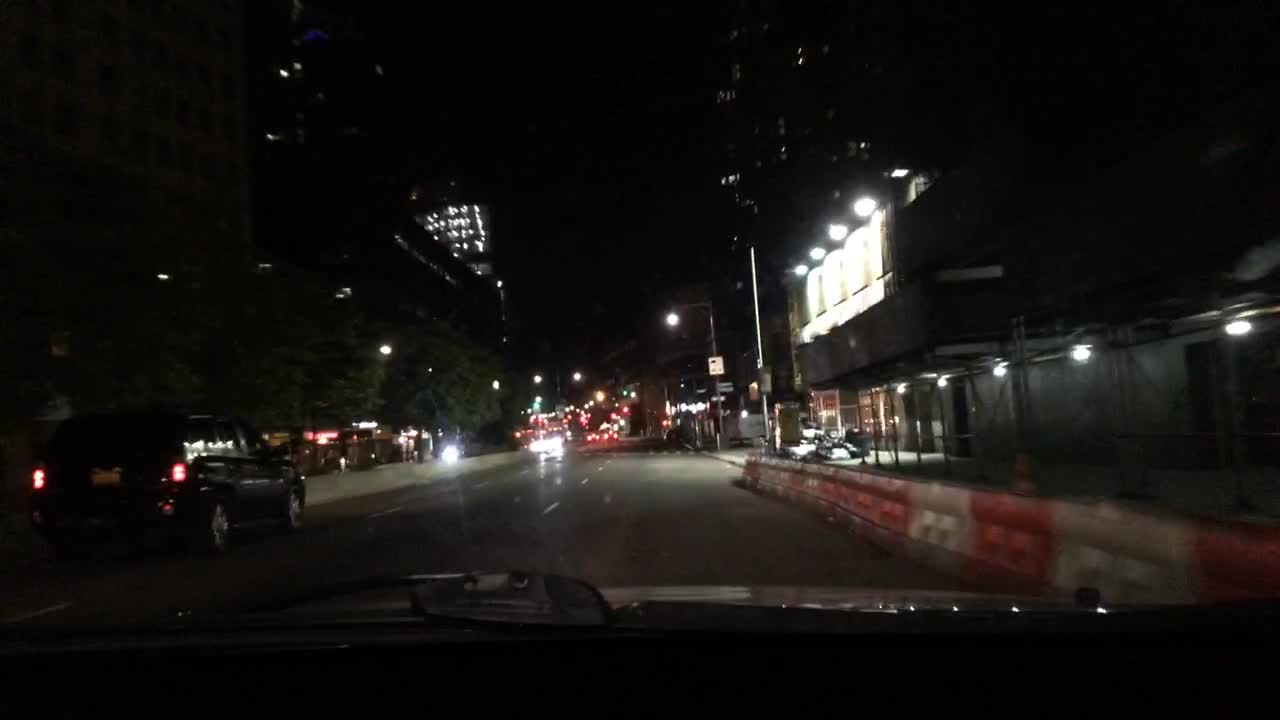car: (21, 400, 308, 554), (526, 433, 553, 455), (439, 442, 464, 462), (601, 426, 621, 442), (550, 432, 566, 449), (584, 428, 601, 442)
traffic light: (619, 403, 632, 416), (530, 400, 543, 411), (607, 408, 616, 422), (622, 386, 628, 397)
traffic sign: (758, 365, 774, 392), (708, 355, 723, 374), (715, 381, 734, 392)
